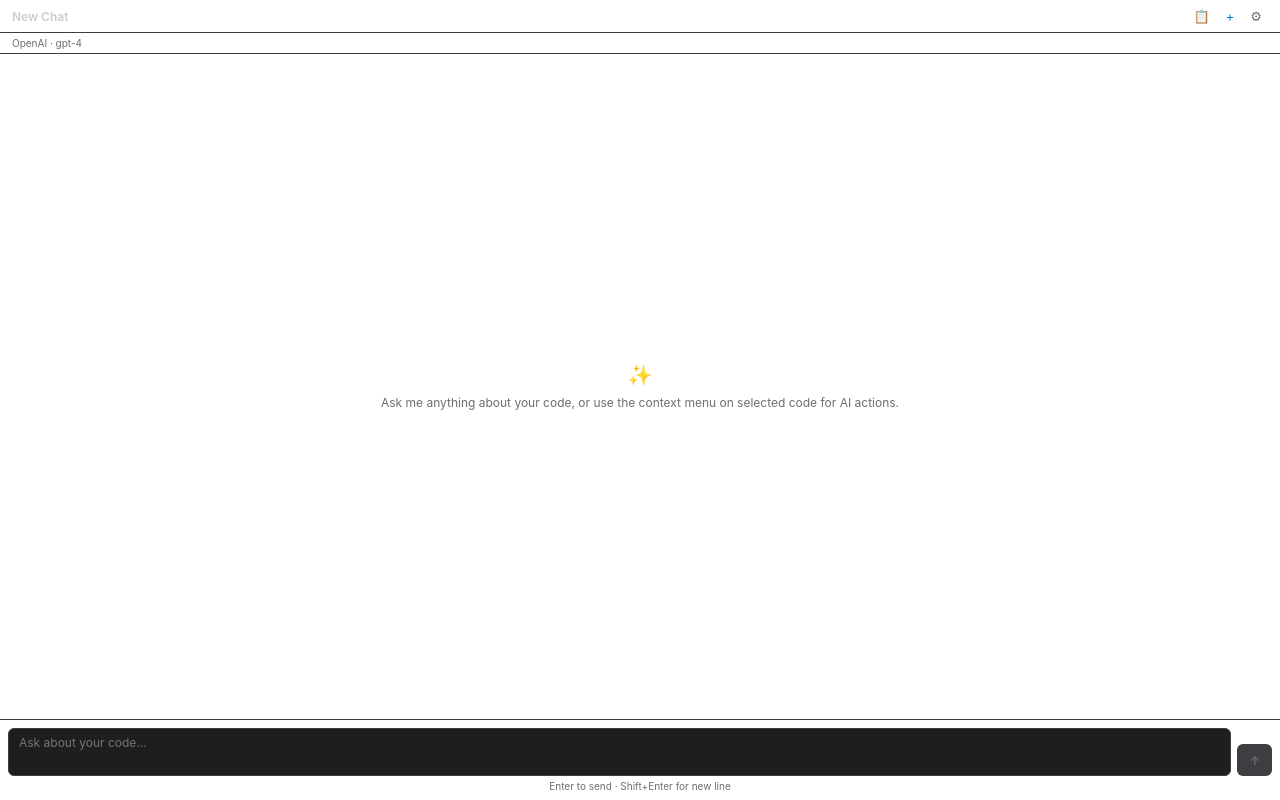
Test: AIChatPanelViewPresenter › displays all conversations in list view
Click the button "📋": (1202, 16) [1188,6,1216,26]
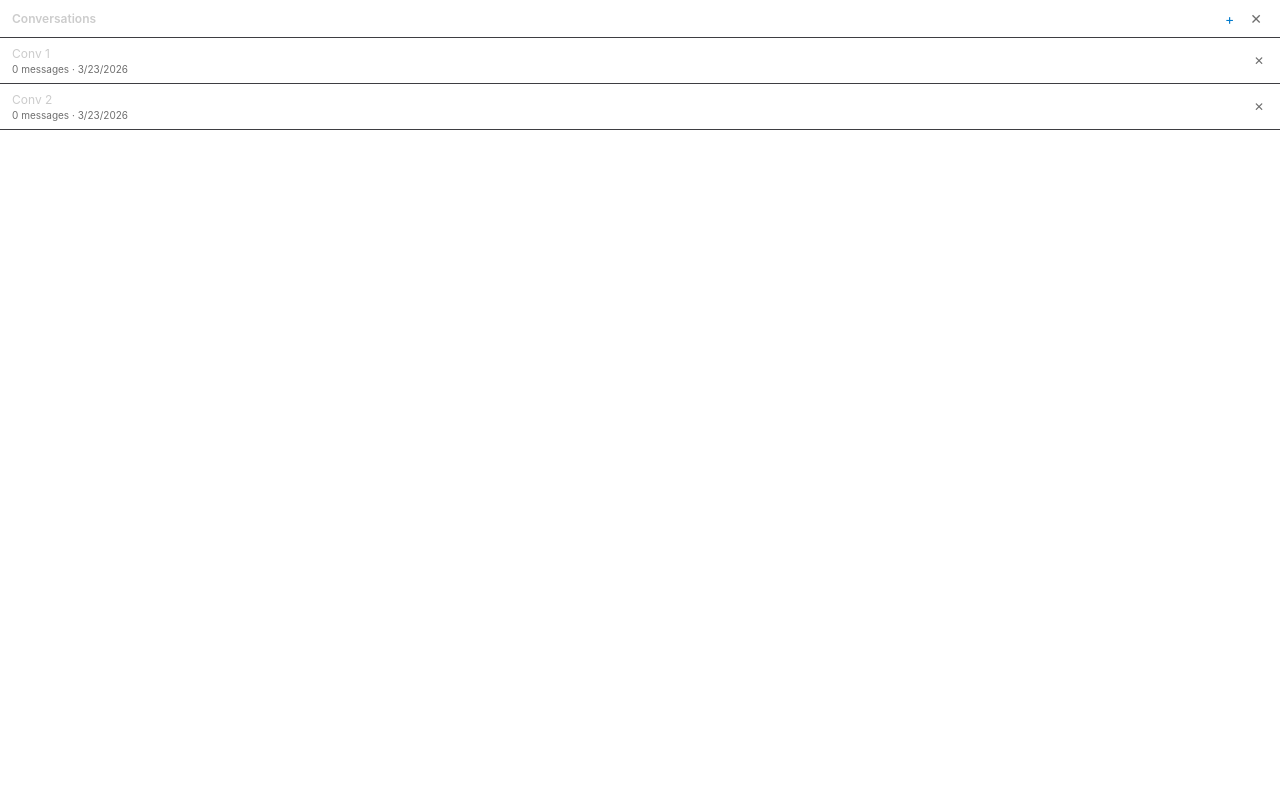
Result: the text "Conv 1" is shown at [12,46,50,61]
Result: the text "Conv 2" is shown at [12,92,52,107]
